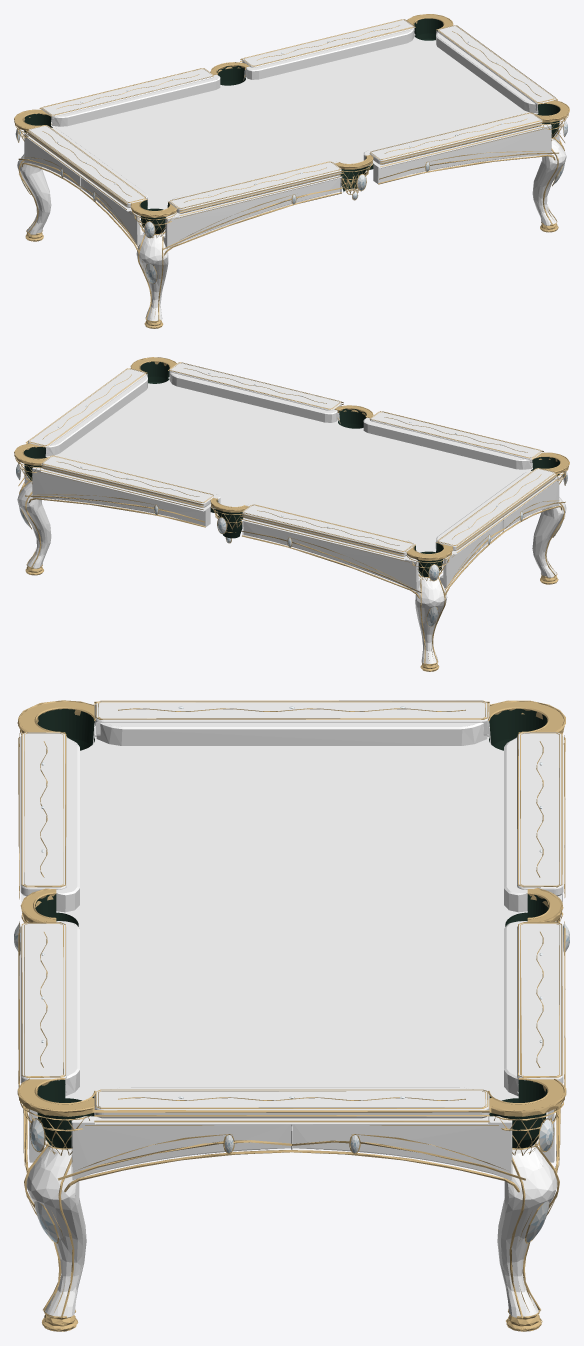
The model's file is table-refined.glb.
3 renders of one model, top to bottom at view 1: azimuth 30°, elevation 25°; view 2: azimuth 150°, elevation 25°; view 3: azimuth 270°, elevation 25°, orthographic. The views are drawn at different scales.
Parts seen in each view (by area): view 1: Pearl champagne full table; view 2: Pearl champagne full table; view 3: Pearl champagne full table.
Boxes of the visible parts, x1,y1,x2,y2 form: Pearl champagne full table: [14, 14, 569, 328]; Pearl champagne full table: [14, 357, 569, 671]; Pearl champagne full table: [14, 700, 569, 1331].
Size of the model in its own units: 2.91 by 0.779 by 1.67.
